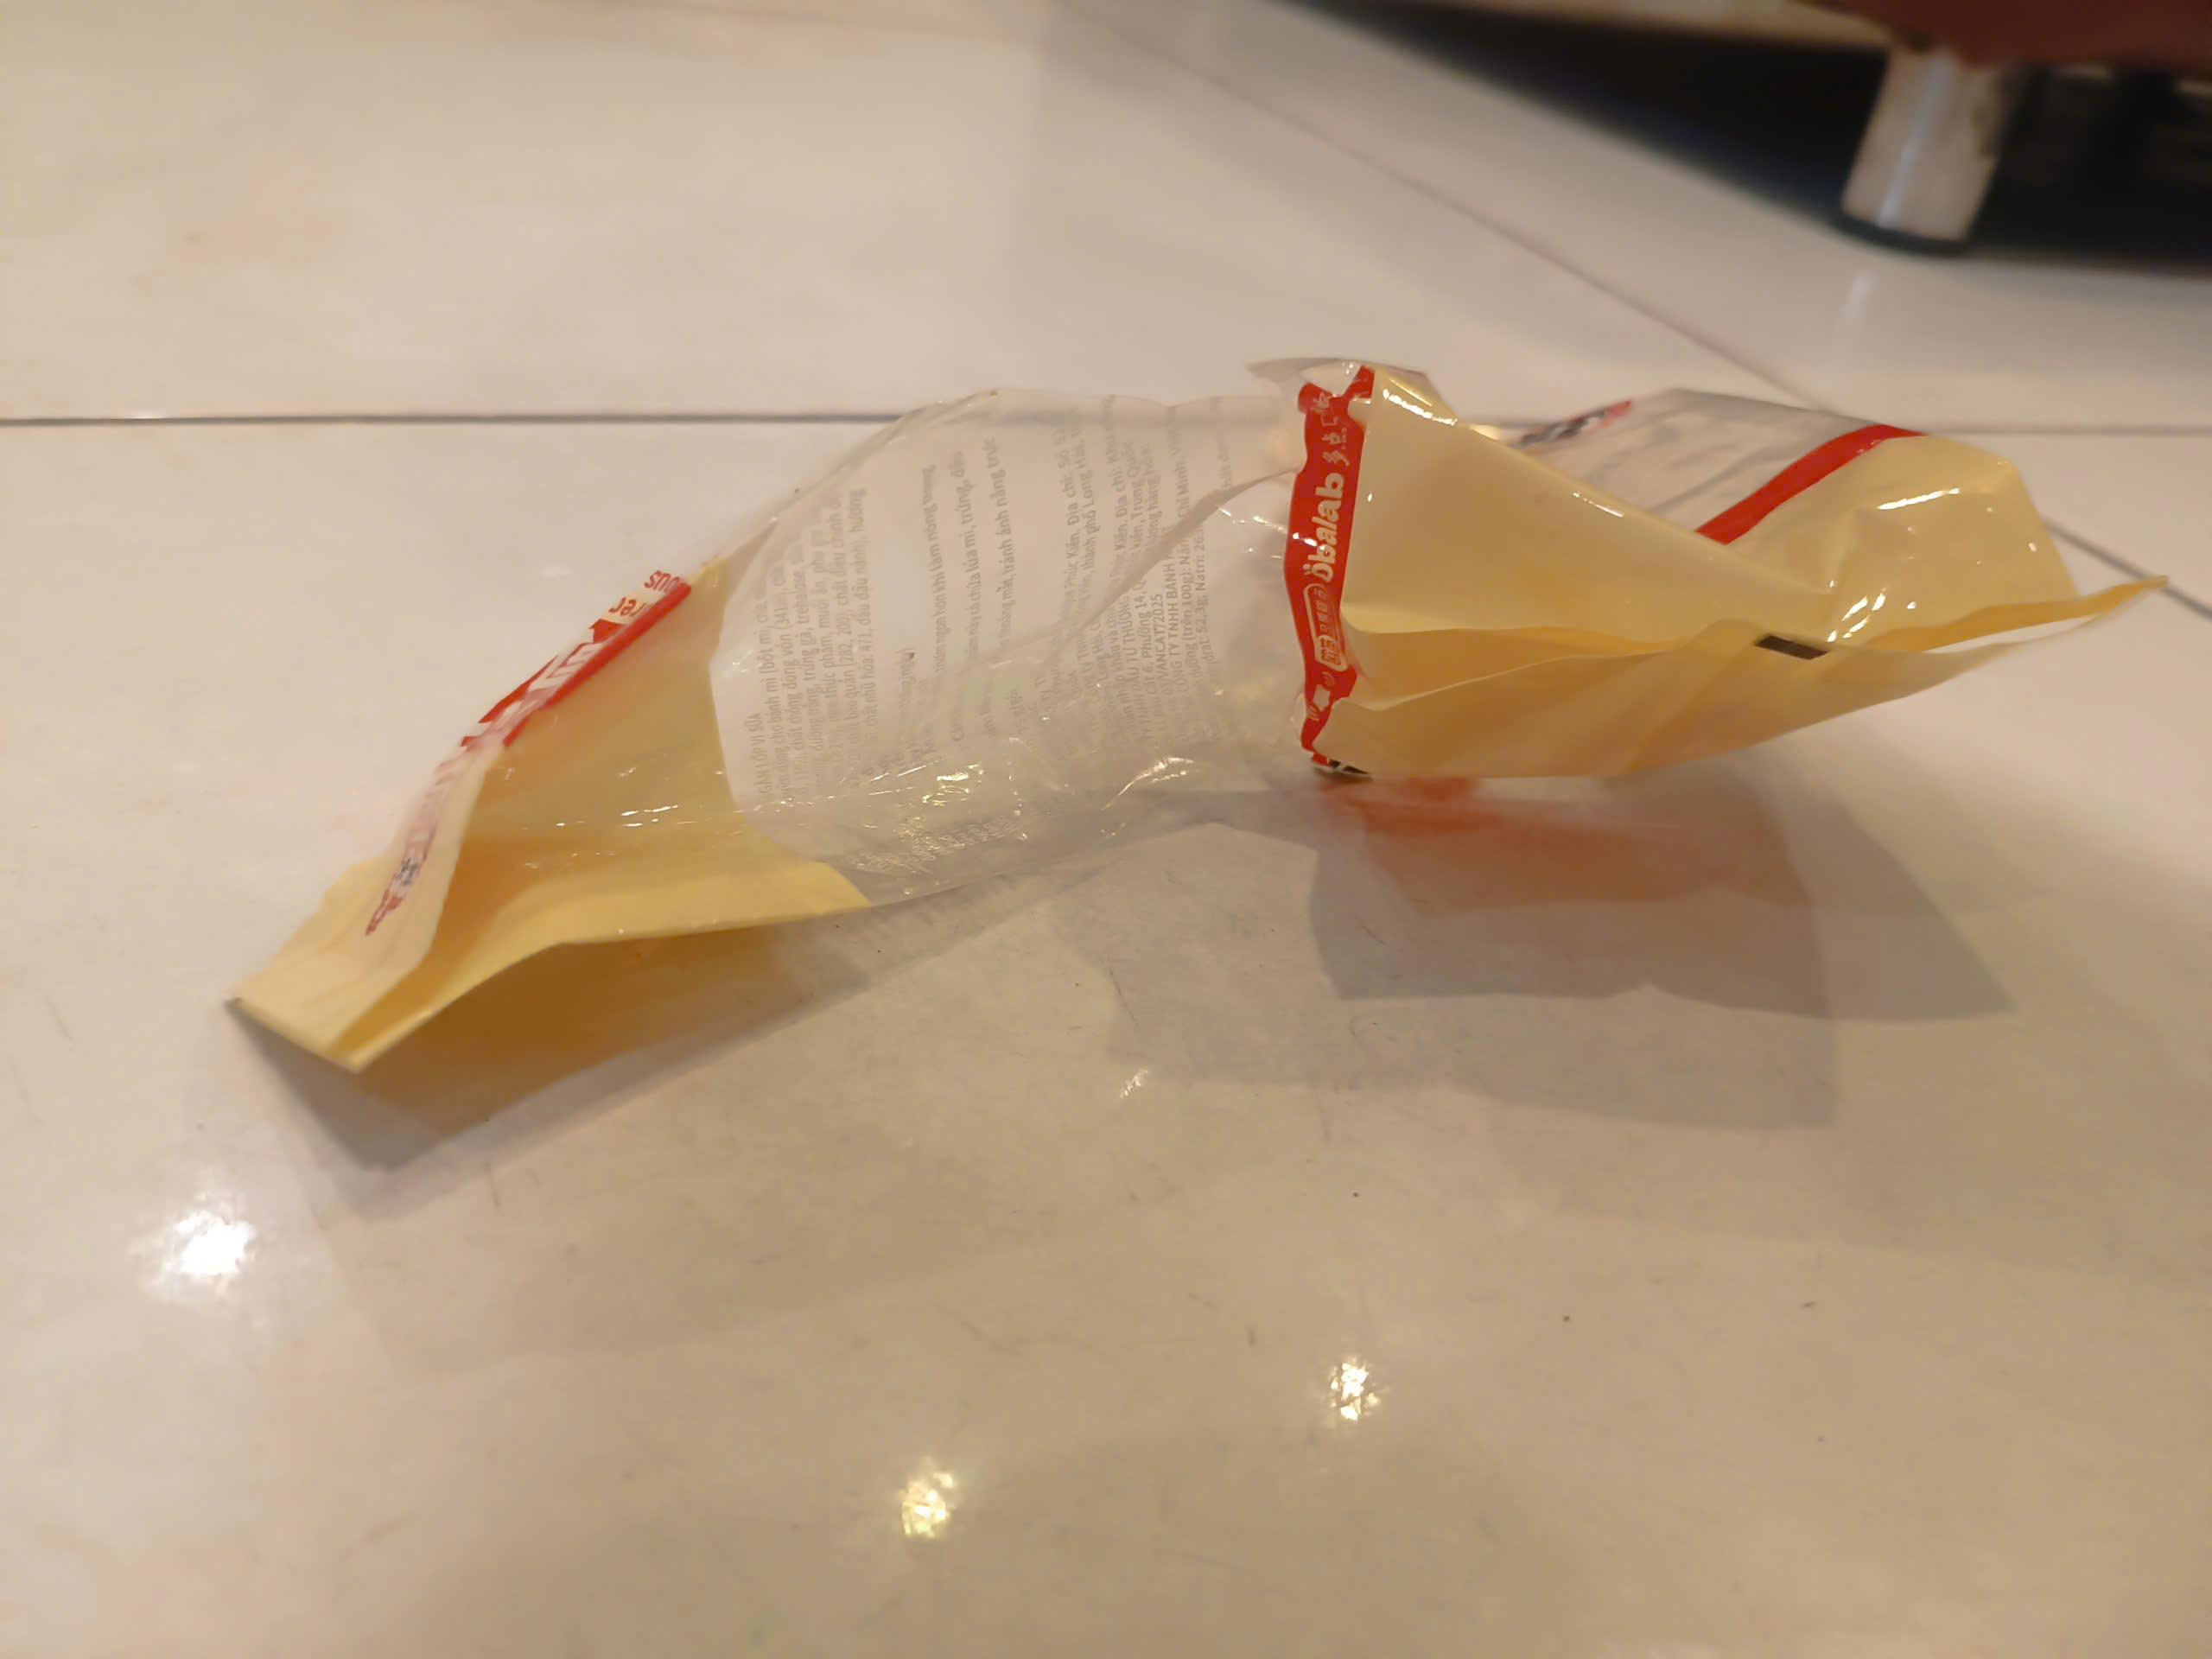Vo co: (231, 352, 2152, 1070)
